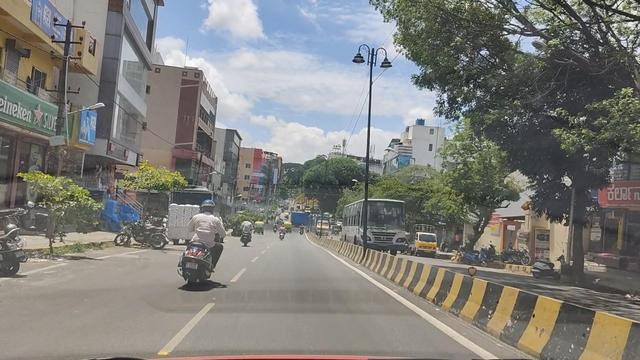LMV: (180, 186, 230, 290)
